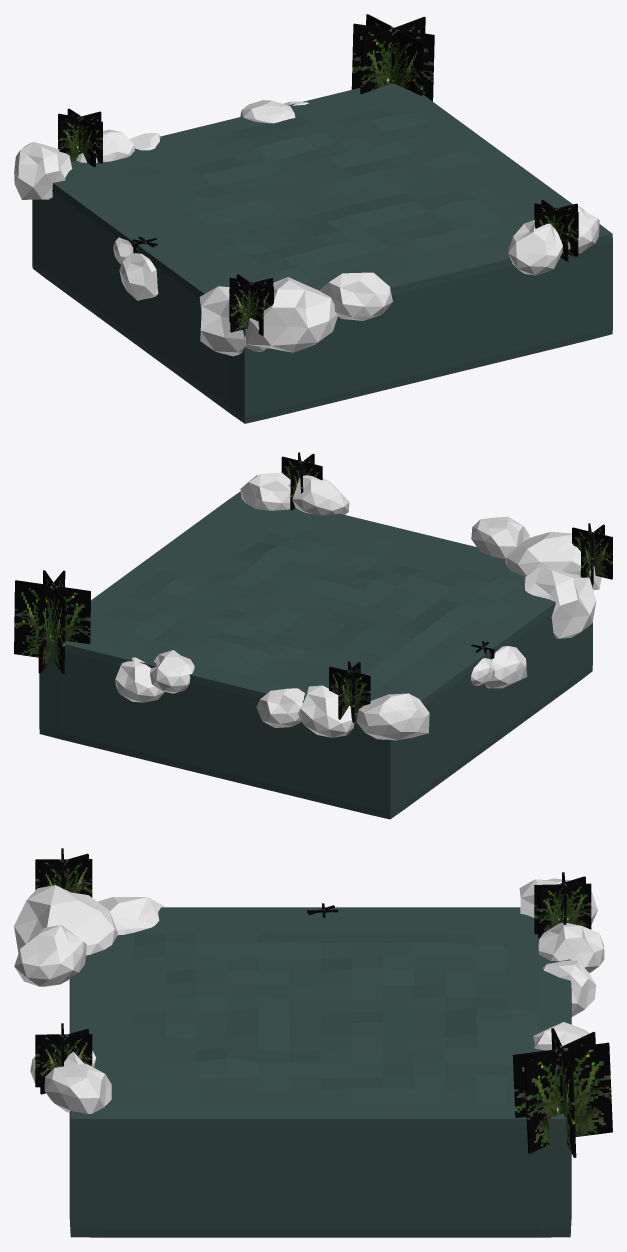
Rendered from water.fbx.
3 views of the same model, one above another, from view 1: azimuth 30°, elevation 25°; view 2: azimuth 150°, elevation 25°; view 3: azimuth 270°, elevation 25° (orthographic). The views are drawn at different scales.
Visible parts, largest first — view 1: WATER; view 2: WATER; view 3: WATER.
Part boxes in pixels (x1,y1,x2,y2): WATER: (14, 14, 612, 423); WATER: (14, 452, 612, 819); WATER: (14, 848, 612, 1237).
Size of the model in its own units: 688 by 247 by 723.
